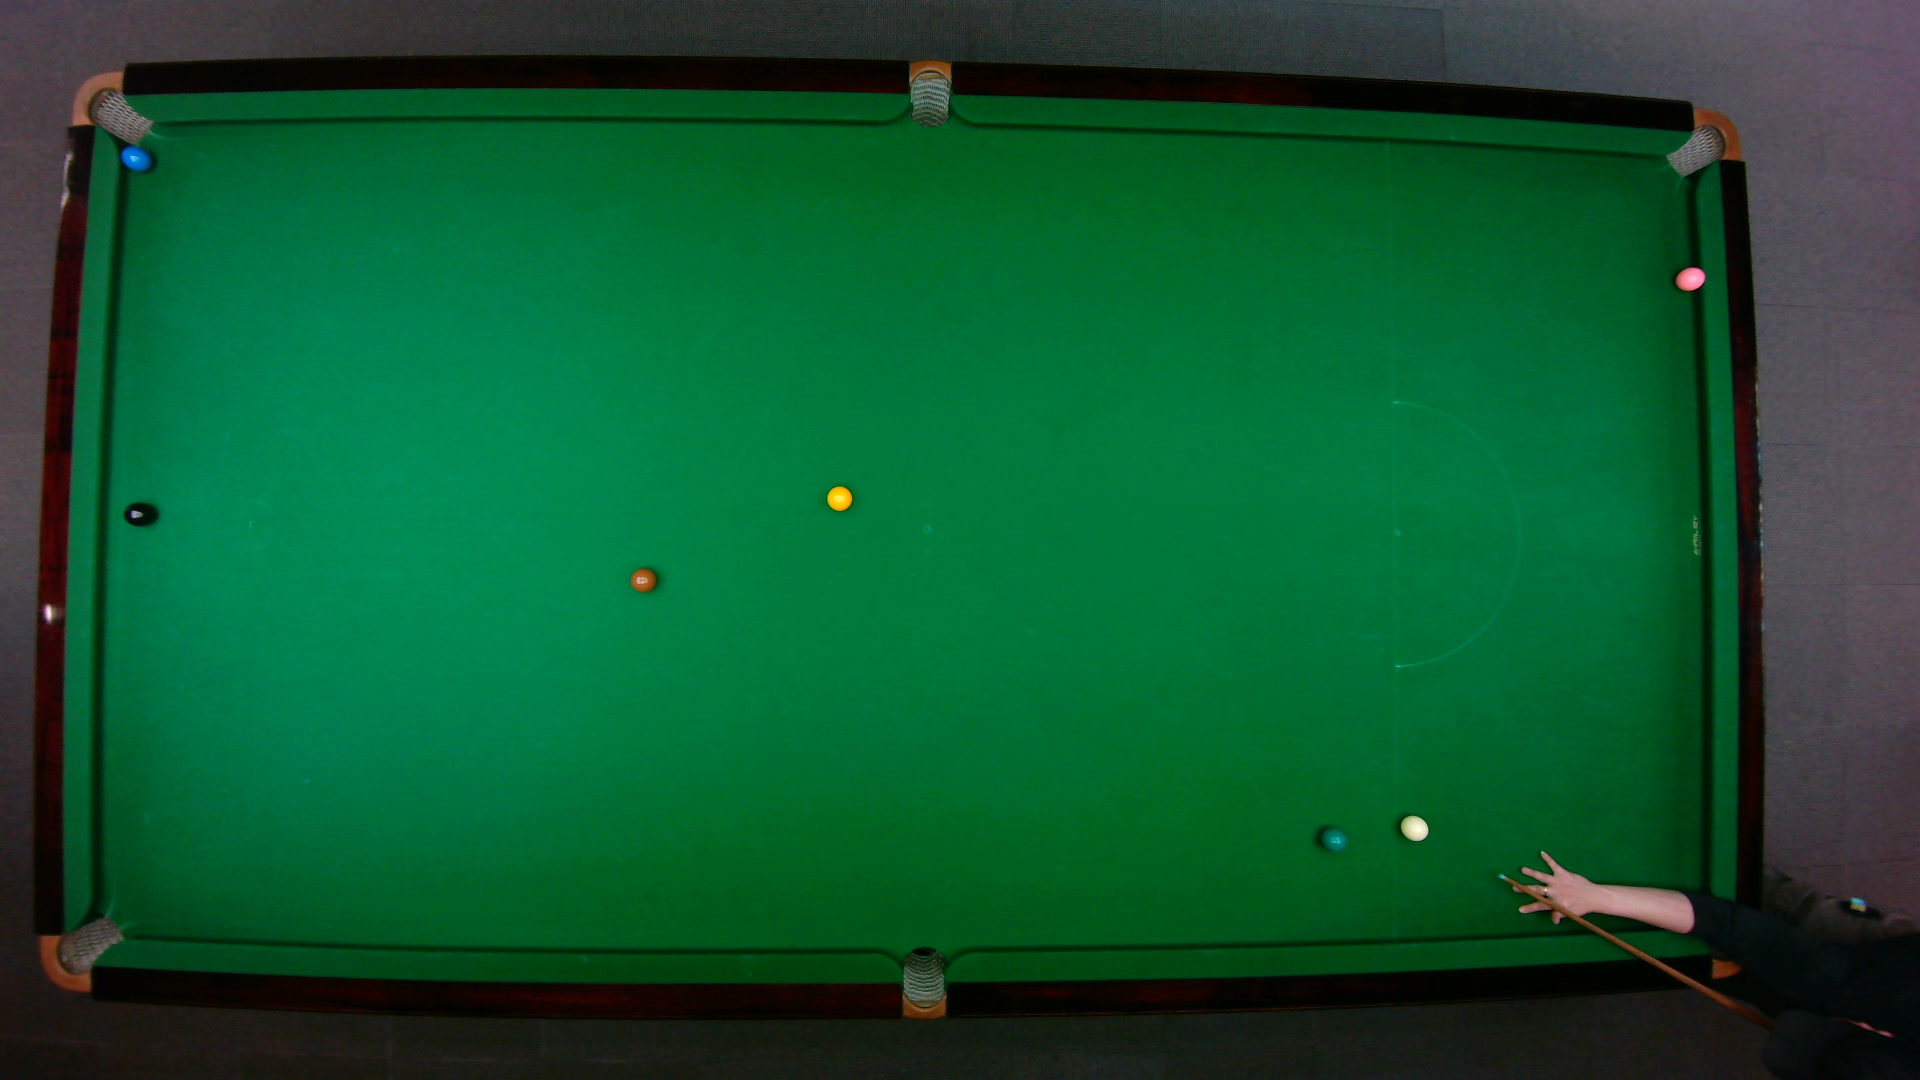bag: (38, 914, 124, 993), (69, 69, 153, 145), (1663, 107, 1741, 177), (1697, 916, 1762, 978), (901, 944, 944, 1021), (909, 57, 949, 128)
black: (123, 500, 154, 526)
blue: (117, 144, 152, 171)
brown: (629, 566, 657, 593)
cue: (1493, 866, 1768, 1023)
green: (1317, 825, 1348, 852)
pink: (1673, 264, 1706, 291)
white: (1398, 814, 1429, 841)
yellow: (824, 483, 853, 512)
zone: (1391, 400, 1520, 669)
